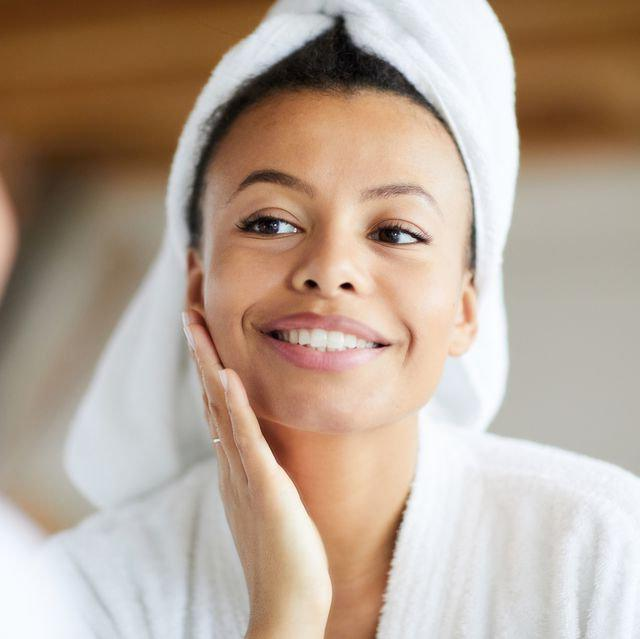Sober: (203, 105, 452, 414)
